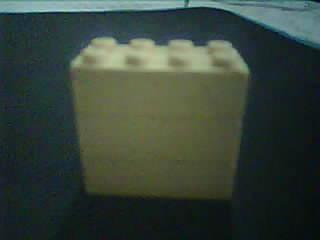lego: (68, 35, 251, 201)
